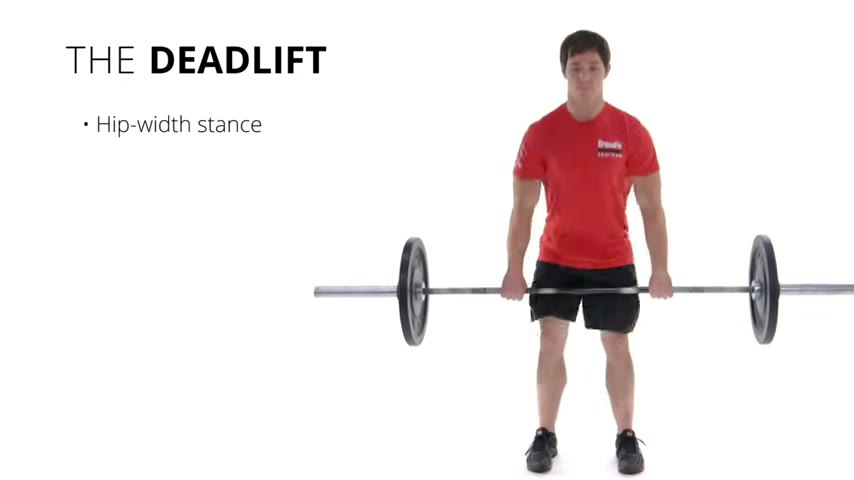barbell_plate_side: (314, 238, 398, 345)
